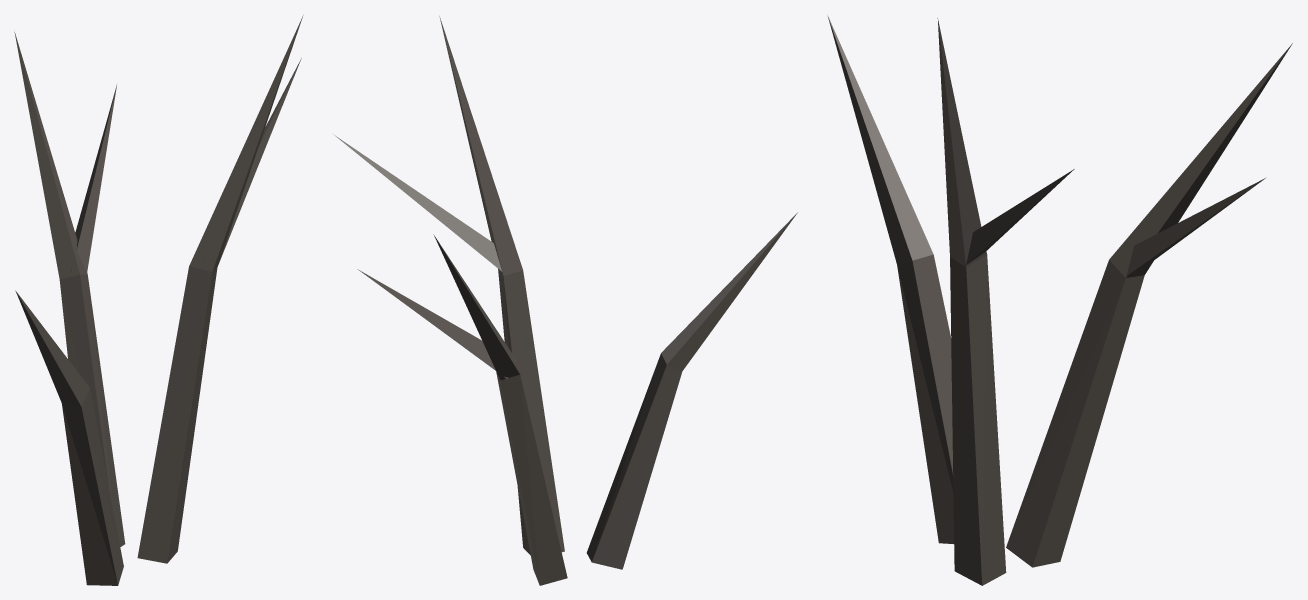
File: SM_Twig_A.fbx
The picture shows the model from 3 angles, left to right: view 1: azimuth 30°, elevation 25°; view 2: azimuth 150°, elevation 25°; view 3: azimuth 270°, elevation 25°; orthographic projection. The views are drawn at different scales.
Visible parts, largest first — view 1: SM_Twig_A; view 2: SM_Twig_A; view 3: SM_Twig_A.
Boxes of the visible parts, <box> form: SM_Twig_A: <box>14,15,303,585</box>; SM_Twig_A: <box>333,16,797,585</box>; SM_Twig_A: <box>827,15,1292,585</box>.
Bounding box in the file's own units: 0.4928 × 0.6383 × 0.4236.
